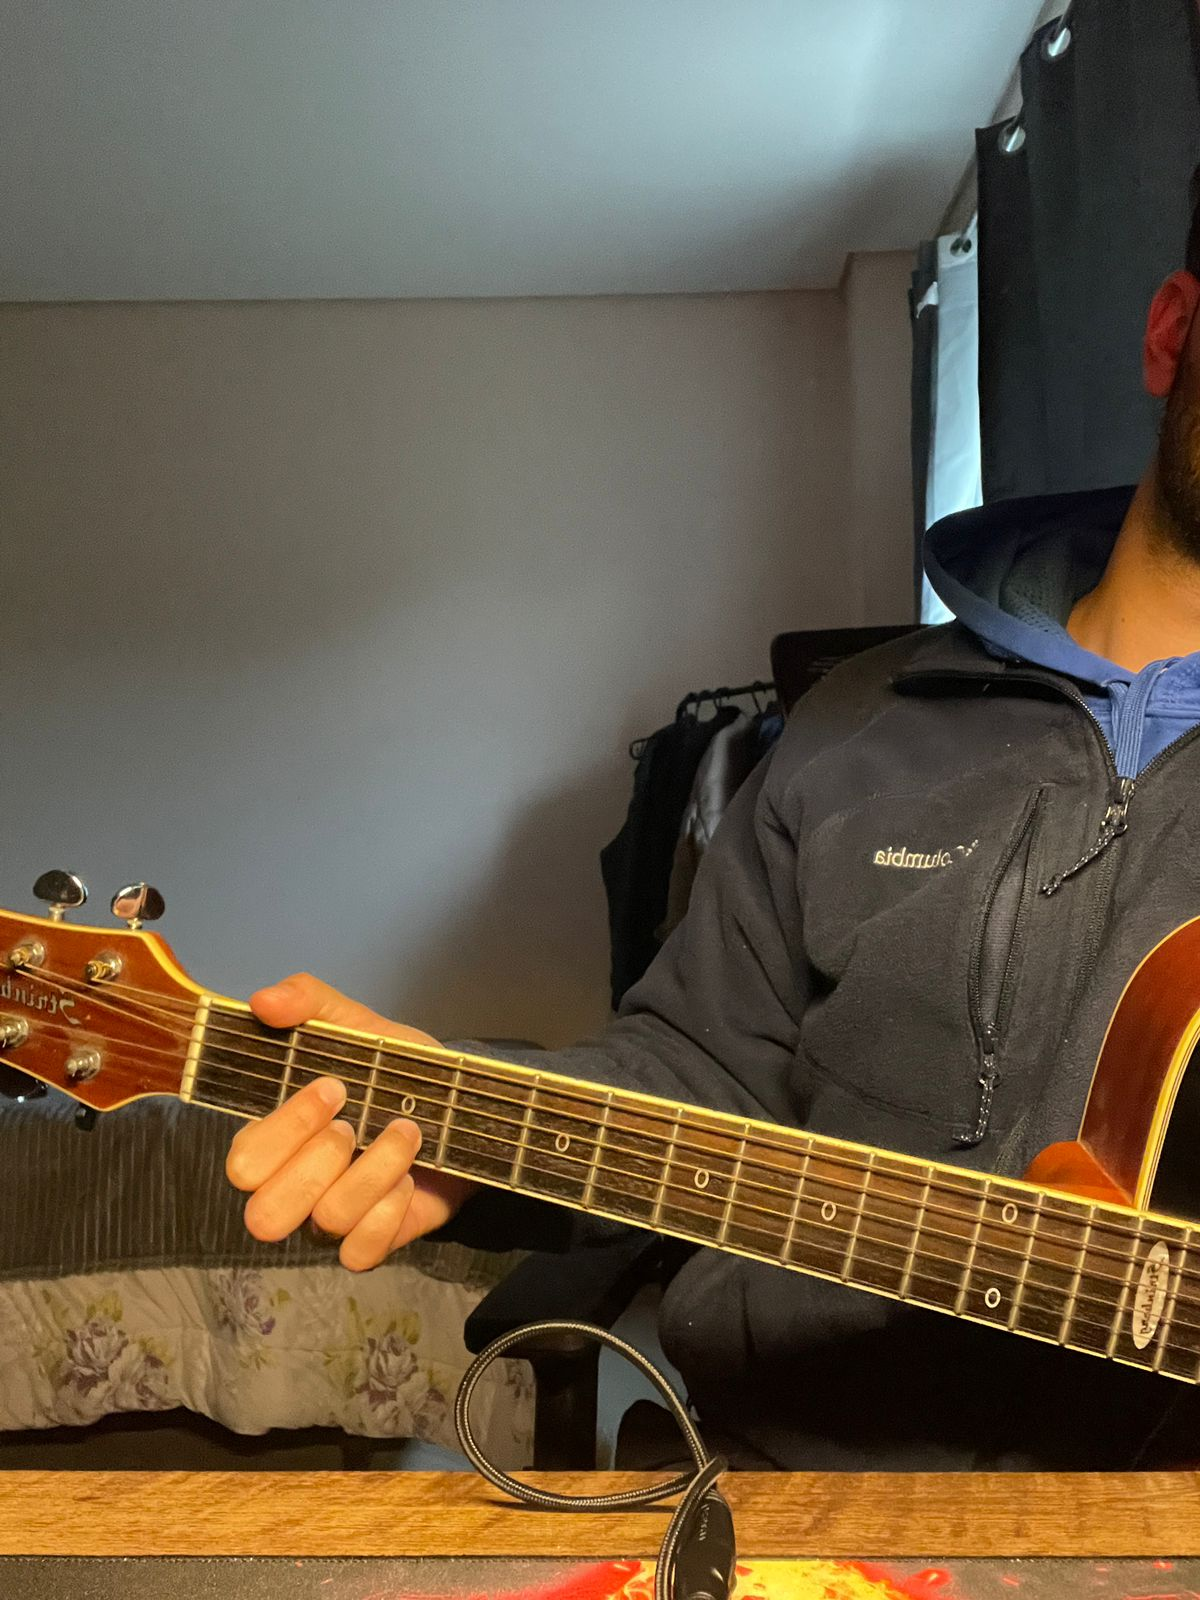re: (292, 1024, 437, 1198)
violao: (15, 838, 1200, 1432)
